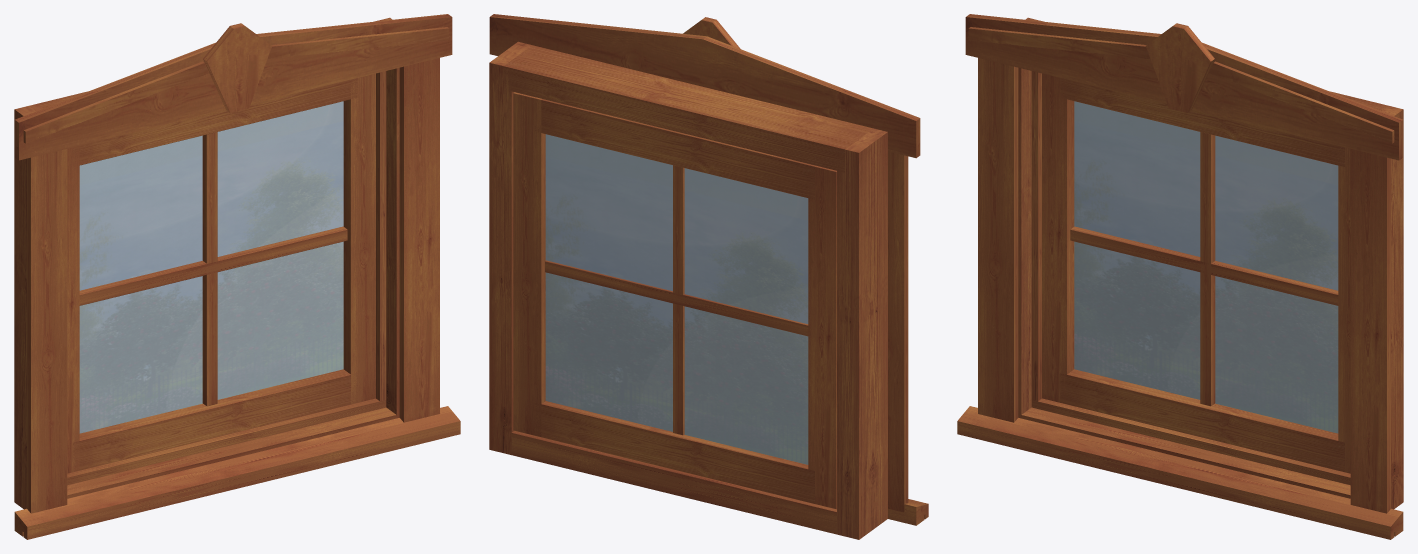
3 renders of one model, left to right at view 1: azimuth 30°, elevation 25°; view 2: azimuth 150°, elevation 25°; view 3: azimuth 330°, elevation 25°, orthographic.
Parts seen in each view (by area): view 1: glass, sill, trim_top, trim_left, trim_right, window_bottom, window_right, window_top, box_right, box_left, muttin_vertical, window_left (+6 smaller); view 2: glass, box_left, box_top, trim_top, window_right, window_bottom, box_right, window_top, window_left, sill, trim_left, muttin_horizontal (+2 smaller); view 3: glass, sill, trim_top, trim_right, trim_left, window_bottom, window_left, window_top, box_left, box_right, muttin_vertical, muttin_horizontal (+6 smaller).
Part boxes in pixels (x1,y1,x2,y2): glass: (79, 101, 343, 433); sill: (14, 406, 460, 539); trim_top: (14, 14, 452, 160); trim_left: (27, 149, 67, 513); trim_right: (399, 58, 439, 422); window_bottom: (73, 369, 357, 471); window_right: (343, 73, 375, 403); window_top: (73, 78, 357, 166); box_right: (376, 17, 399, 418); box_left: (14, 104, 42, 509); muttin_vertical: (202, 132, 217, 406); window_left: (67, 146, 79, 473); glass: (545, 134, 808, 464); box_left: (837, 128, 887, 539); box_top: (503, 45, 873, 172); trim_top: (489, 14, 920, 158); window_right: (513, 92, 545, 436); window_bottom: (534, 401, 814, 503); box_right: (489, 41, 539, 454); window_top: (535, 98, 815, 199); window_left: (808, 165, 836, 509); sill: (511, 431, 928, 534); trim_left: (888, 151, 908, 512); muttin_horizontal: (545, 260, 808, 336); glass: (1074, 101, 1338, 433); sill: (957, 406, 1403, 539); trim_top: (965, 14, 1403, 160); trim_right: (1350, 149, 1390, 513); trim_left: (978, 58, 1018, 422); window_bottom: (1060, 369, 1344, 472); window_left: (1042, 73, 1074, 403); window_top: (1060, 78, 1344, 166); box_left: (1018, 17, 1041, 418); box_right: (1375, 104, 1403, 509); muttin_vertical: (1200, 132, 1215, 406); muttin_horizontal: (1070, 226, 1338, 305).
Bounding box in the file's own units: 30 × 30.19 × 5.
Materials: 7 (7 with a texture image).
